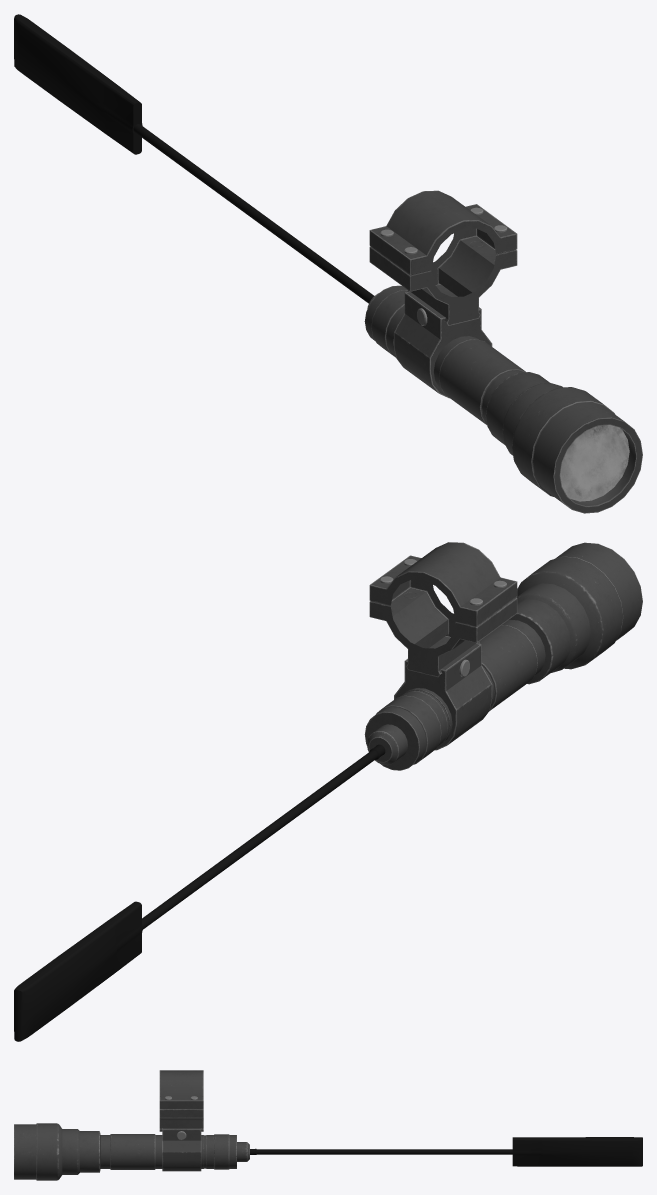
3 renders of one model, top to bottom at view 1: azimuth 30°, elevation 25°; view 2: azimuth 150°, elevation 25°; view 3: azimuth 270°, elevation 25°, orthographic. The views are drawn at different scales.
Visible parts, largest first — view 1: wrap_low; view 2: wrap_low; view 3: wrap_low.
Part boxes in pixels (x1=…): wrap_low: x1=14, y1=14, x2=642, y2=513; wrap_low: x1=14, y1=542, x2=642, y2=1041; wrap_low: x1=14, y1=1070, x2=642, y2=1180.
Size of the model in its own units: 2.84 by 4.92 by 26.63.
1 material, 1 textured.
